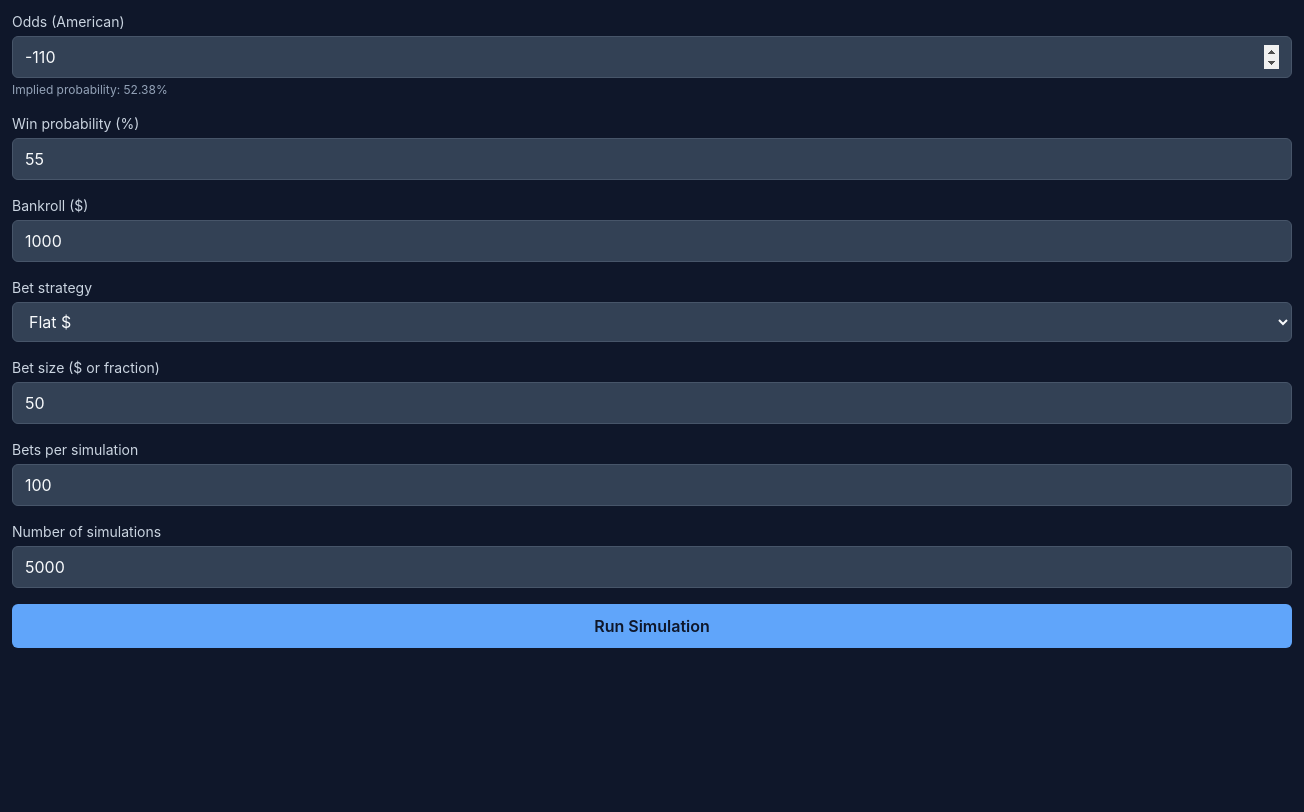
Test: SimulationForm › rejects invalid odds -50
This screenshot has width=1304, height=812.
Replace the text in the number field labelled "Odds (American)" with "-50": [652, 57] box [12, 36, 1292, 78]
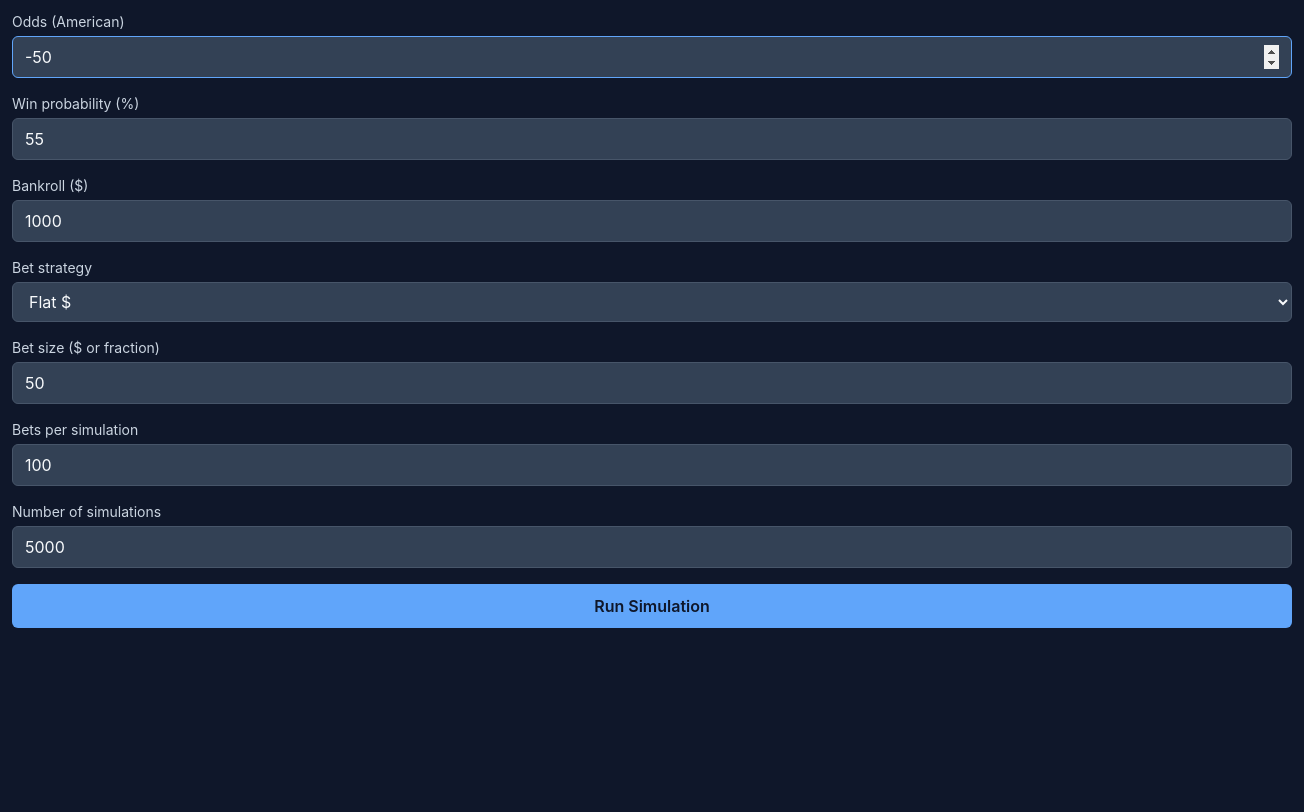
Click the button "Run Simulation": [652, 606] box [12, 584, 1292, 628]
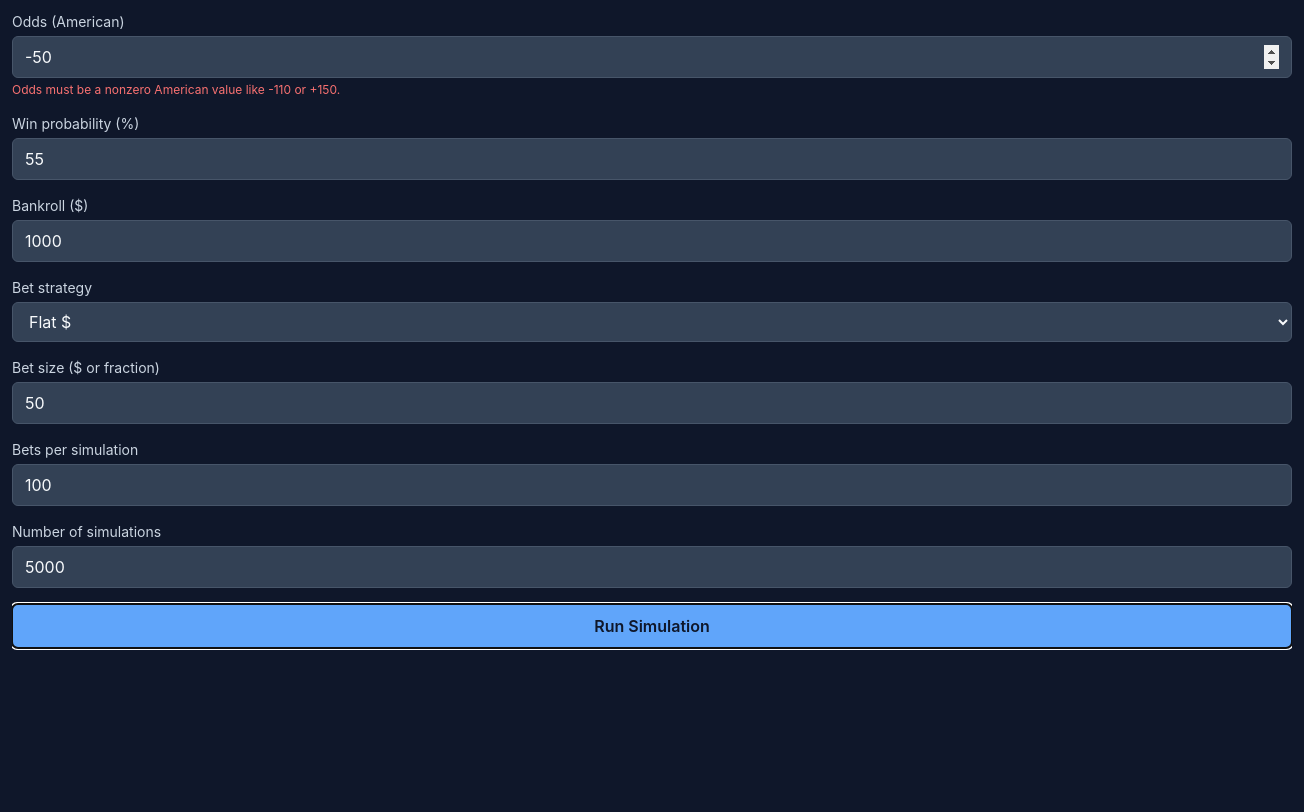
Expected: the text "Odds must be a nonzero American value like -110 or +150." is shown, [12, 82, 340, 97]
